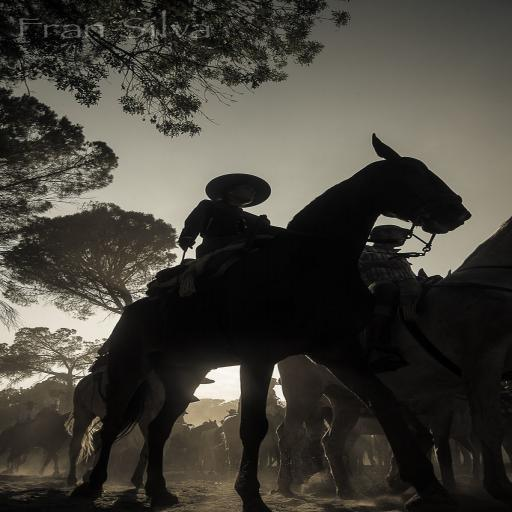horse: (68, 132, 473, 512), (278, 214, 512, 502), (0, 396, 512, 478)
